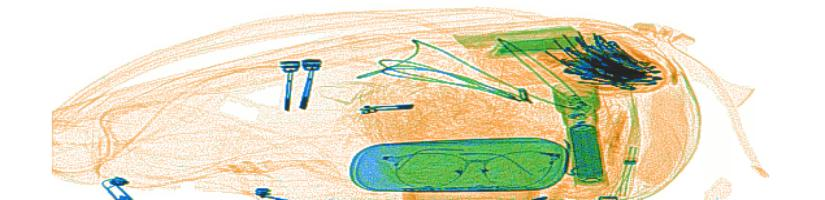battery: (570, 122, 605, 181)
